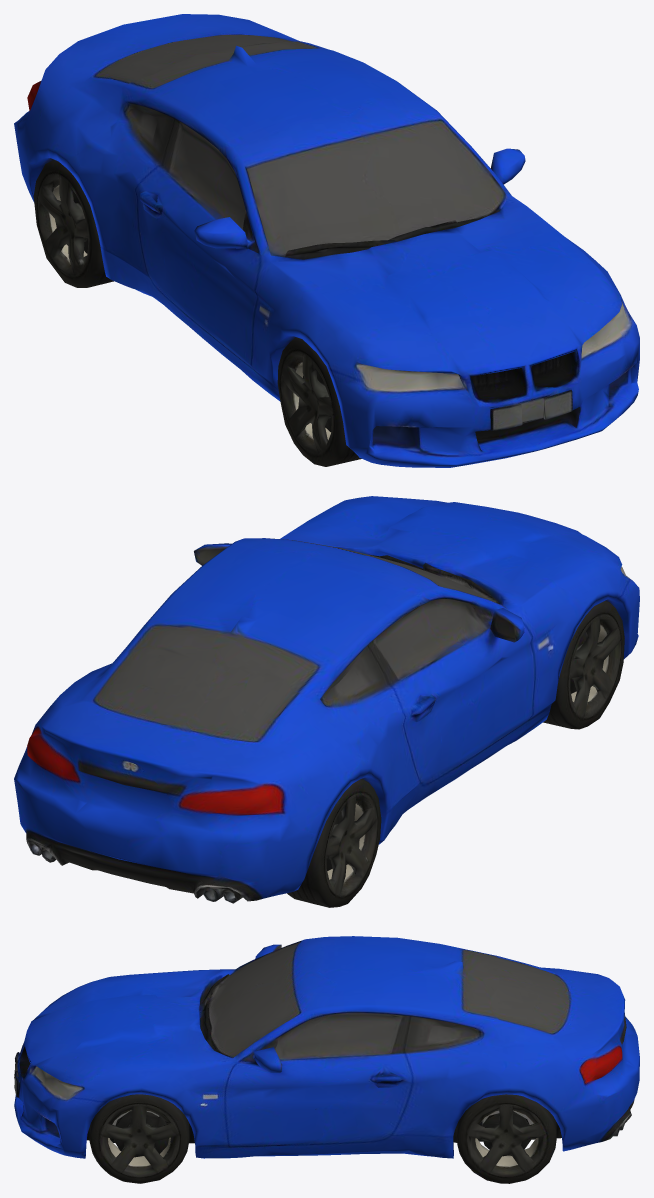
The model's file is t_coupe.glb.
The picture shows the model from 3 angles, top to bottom: view 1: azimuth 30°, elevation 25°; view 2: azimuth 150°, elevation 25°; view 3: azimuth 270°, elevation 25°; orthographic projection. The views are drawn at different scales.
Visible parts, largest first — view 1: node_3402cb98-89b7-4256-863e-f095514caf68; view 2: node_3402cb98-89b7-4256-863e-f095514caf68; view 3: node_3402cb98-89b7-4256-863e-f095514caf68.
Boxes of the visible parts, bbox=[...] form: node_3402cb98-89b7-4256-863e-f095514caf68: bbox=[14, 14, 639, 467]; node_3402cb98-89b7-4256-863e-f095514caf68: bbox=[14, 496, 639, 907]; node_3402cb98-89b7-4256-863e-f095514caf68: bbox=[14, 936, 639, 1183].
Size of the model in its own units: 0.4533 by 0.3033 by 1.
1 material, 1 textured.
